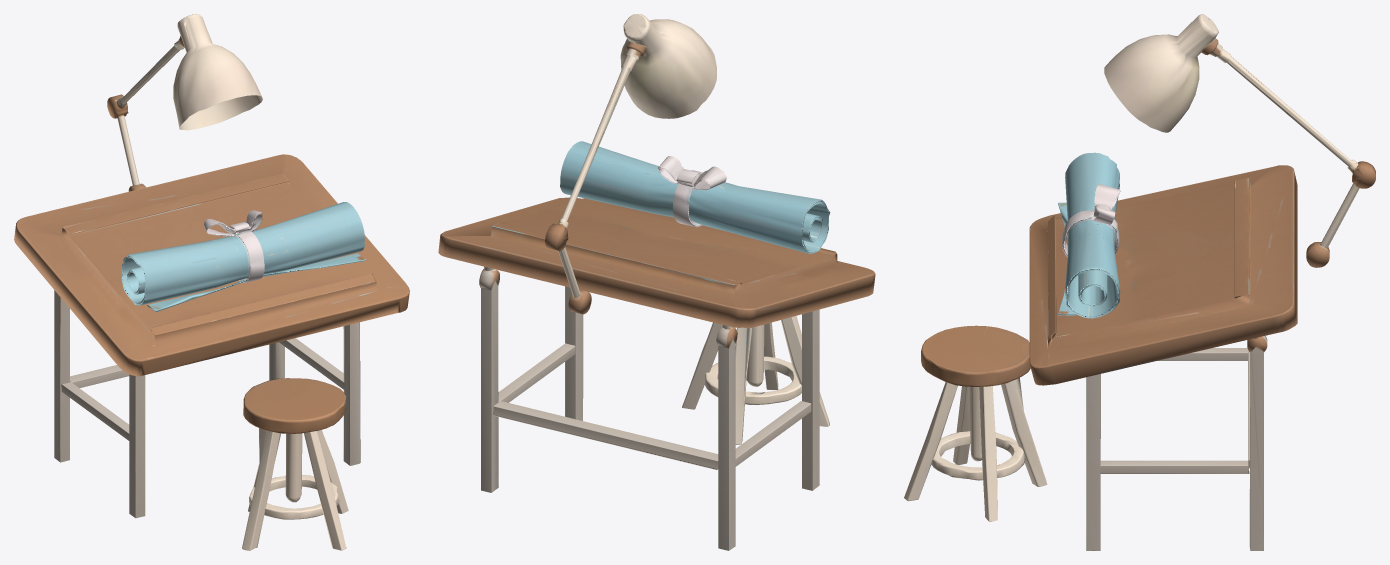
File: drafting-table.raw.glb
3 renders of one model, left to right at view 1: azimuth 30°, elevation 25°; view 2: azimuth 150°, elevation 25°; view 3: azimuth 270°, elevation 25°, orthographic. The views are drawn at different scales.
Size of the model in its own units: 0.645 by 0.9512 by 0.8555.
1 material, 1 textured.
